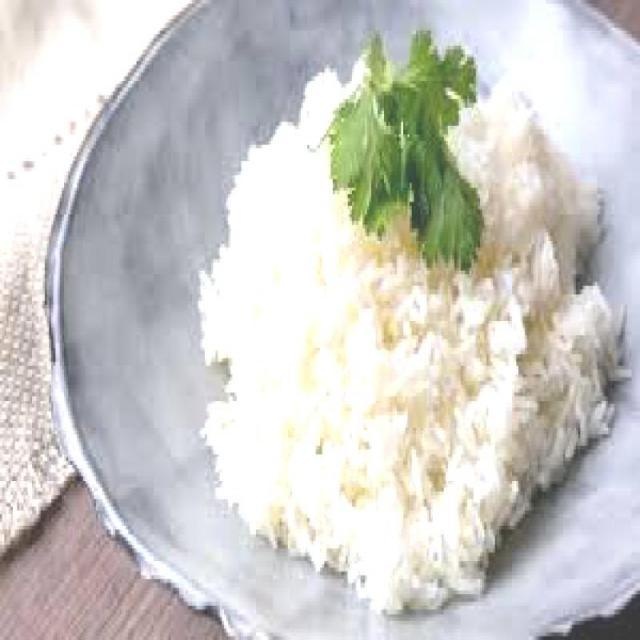rice: (201, 51, 630, 620)
